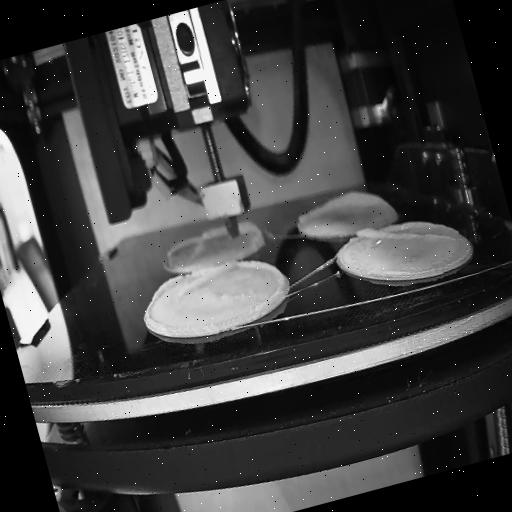over_extrusion: (352, 202, 454, 264), (293, 180, 390, 231), (232, 247, 292, 315), (148, 260, 236, 304), (236, 218, 264, 250), (197, 220, 230, 241)
